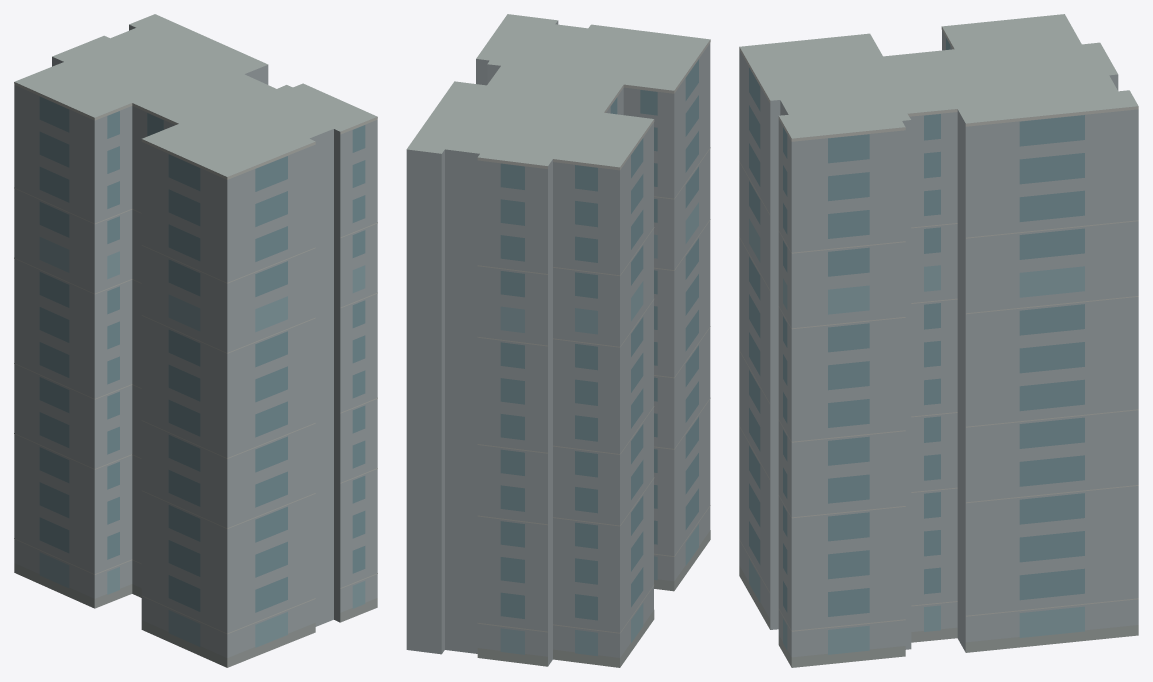
File: survey-upis-32836462.glb
The picture shows the model from 3 angles, left to right: view 1: azimuth 30°, elevation 25°; view 2: azimuth 150°, elevation 25°; view 3: azimuth 270°, elevation 25°; orthographic projection. The views are drawn at different scales.
Parts seen in each view (by area): view 1: survey-upis-32836462.tmp; view 2: survey-upis-32836462.tmp; view 3: survey-upis-32836462.tmp.
Boxes of the visible parts, x1,y1,x2,y2 form: survey-upis-32836462.tmp: (14, 14, 377, 667); survey-upis-32836462.tmp: (406, 14, 710, 667); survey-upis-32836462.tmp: (739, 14, 1138, 667).
Size of the model in its own units: 20.5 by 40.55 by 27.73.
